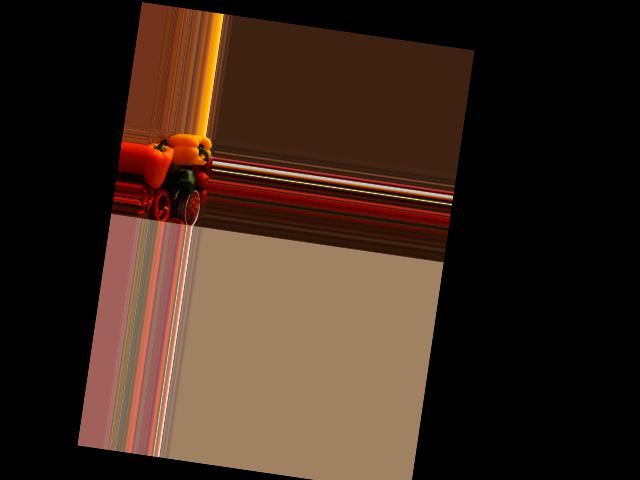bell_pepper: (172, 133, 212, 169)
